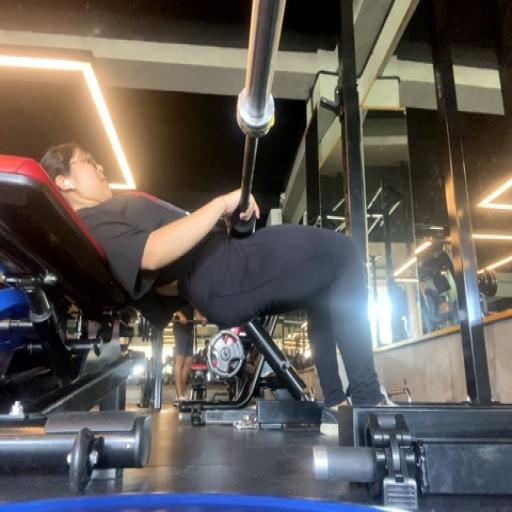exercise: (39, 138, 400, 414)
